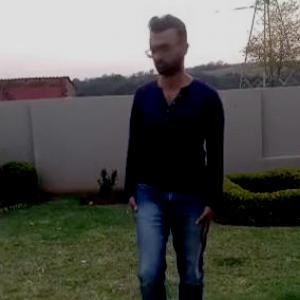follow: (114, 7, 229, 299)
